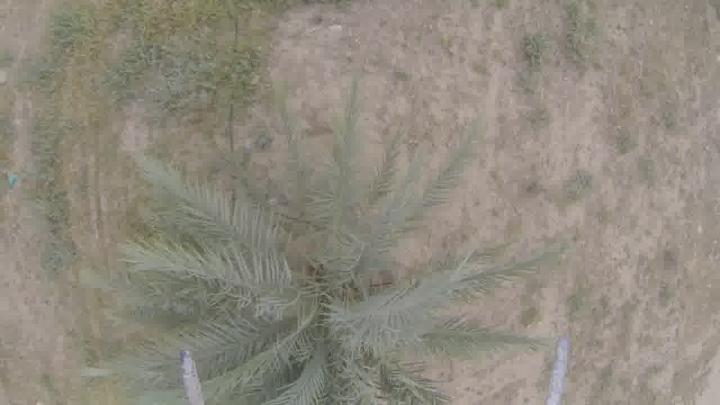Date-Palm-Crown: (200, 205, 424, 405)
